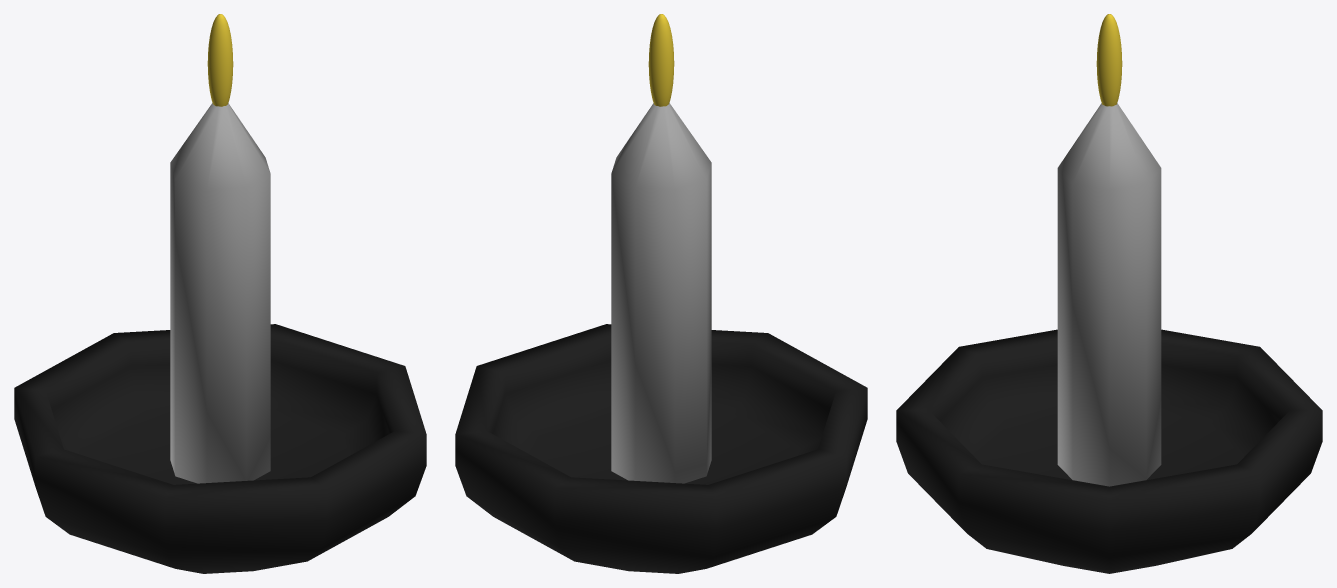
The model's file is Mum.fbx.
3 renders of one model, left to right at view 1: azimuth 30°, elevation 25°; view 2: azimuth 150°, elevation 25°; view 3: azimuth 270°, elevation 25°, orthographic.
Parts seen in each view (by area): view 1: Cylinder.001, Sphere; view 2: Cylinder.001, Sphere; view 3: Cylinder.001, Sphere.
Part boxes in pixels (box(x1,y1,x2,y2)): Cylinder.001: box(14, 103, 426, 573); Sphere: box(207, 14, 233, 106); Cylinder.001: box(455, 103, 867, 573); Sphere: box(648, 14, 674, 106); Cylinder.001: box(896, 103, 1322, 573); Sphere: box(1096, 14, 1122, 106).
Bounding box in the file's own units: 492 × 678 × 492.
1 material, 1 textured.
